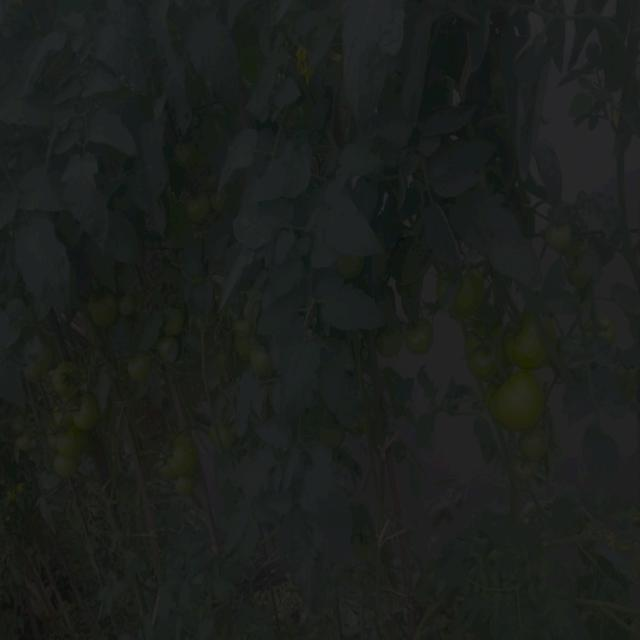tomato: (490, 371, 550, 431), (503, 321, 539, 373), (465, 330, 502, 375), (230, 319, 268, 360), (449, 280, 486, 317), (515, 430, 552, 466), (51, 357, 80, 400), (513, 455, 544, 493), (156, 437, 193, 468), (247, 350, 278, 383), (51, 425, 85, 455), (412, 317, 438, 353), (340, 253, 372, 282), (570, 265, 595, 302), (587, 309, 614, 340), (81, 289, 108, 319), (71, 398, 102, 424), (182, 191, 207, 221), (128, 357, 160, 380), (170, 471, 200, 494), (206, 186, 227, 217), (542, 214, 567, 240), (166, 134, 191, 160), (382, 326, 410, 349), (5, 430, 34, 452), (113, 289, 134, 315), (56, 455, 78, 477), (22, 364, 46, 382), (165, 317, 190, 332), (487, 77, 503, 96), (159, 337, 179, 351)
